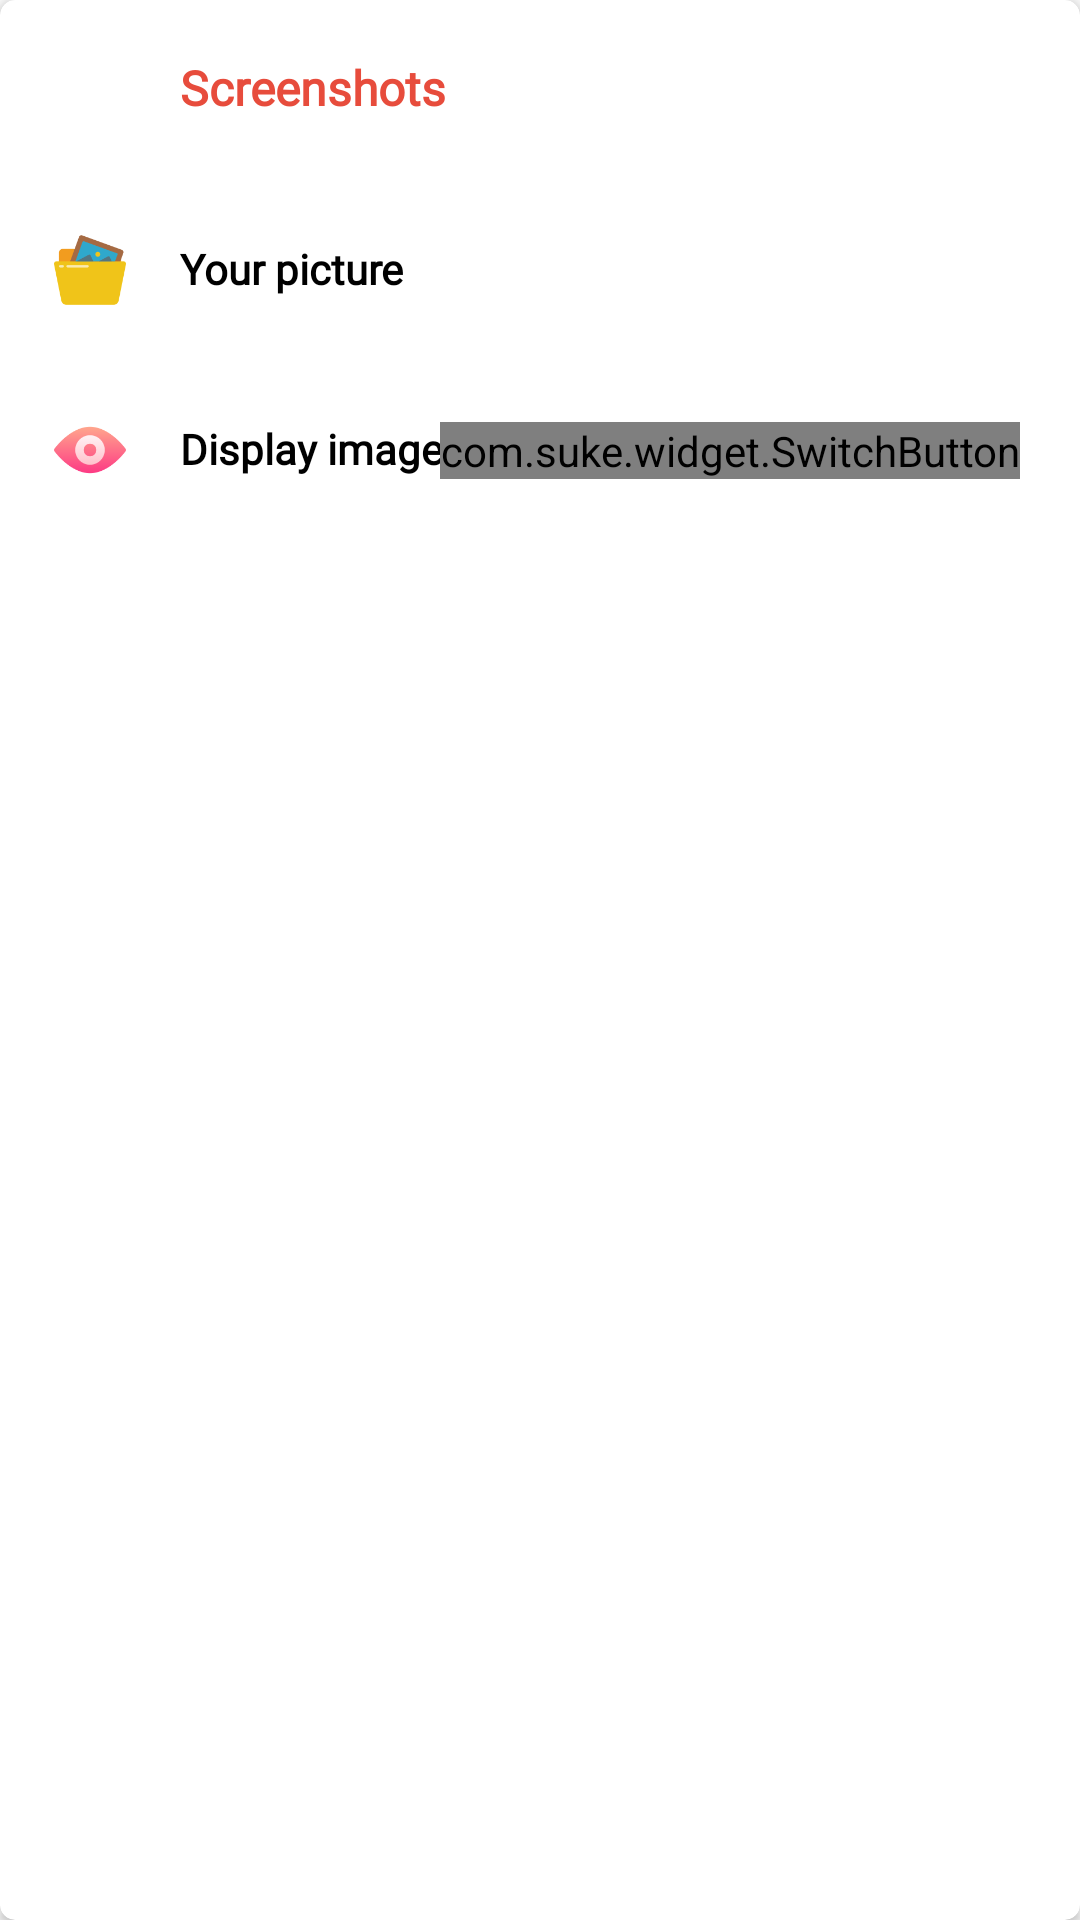

Icon bounding boxes for this 1080w x 1920h phone screenshot, format [x1, y1, x2, y2]:
all gallery: [54, 235, 126, 305]
